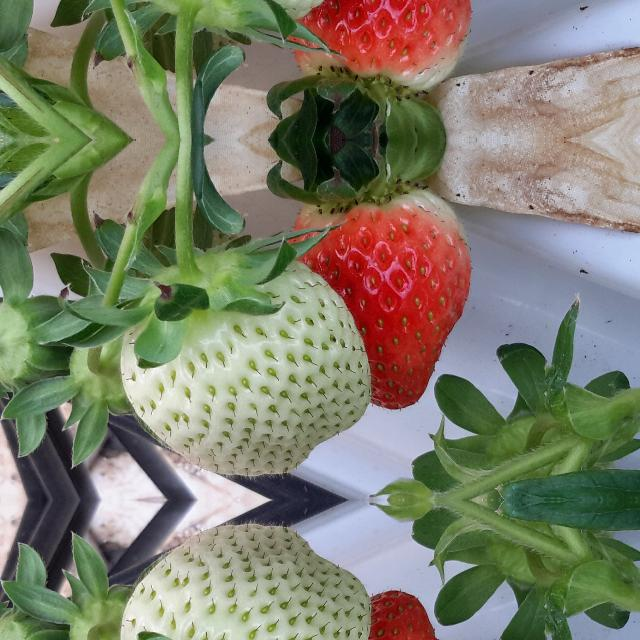Health_100: (290, 189, 474, 413), (289, 0, 474, 91), (289, 587, 474, 640)
Health_25: (119, 255, 373, 477), (119, 523, 373, 640)
